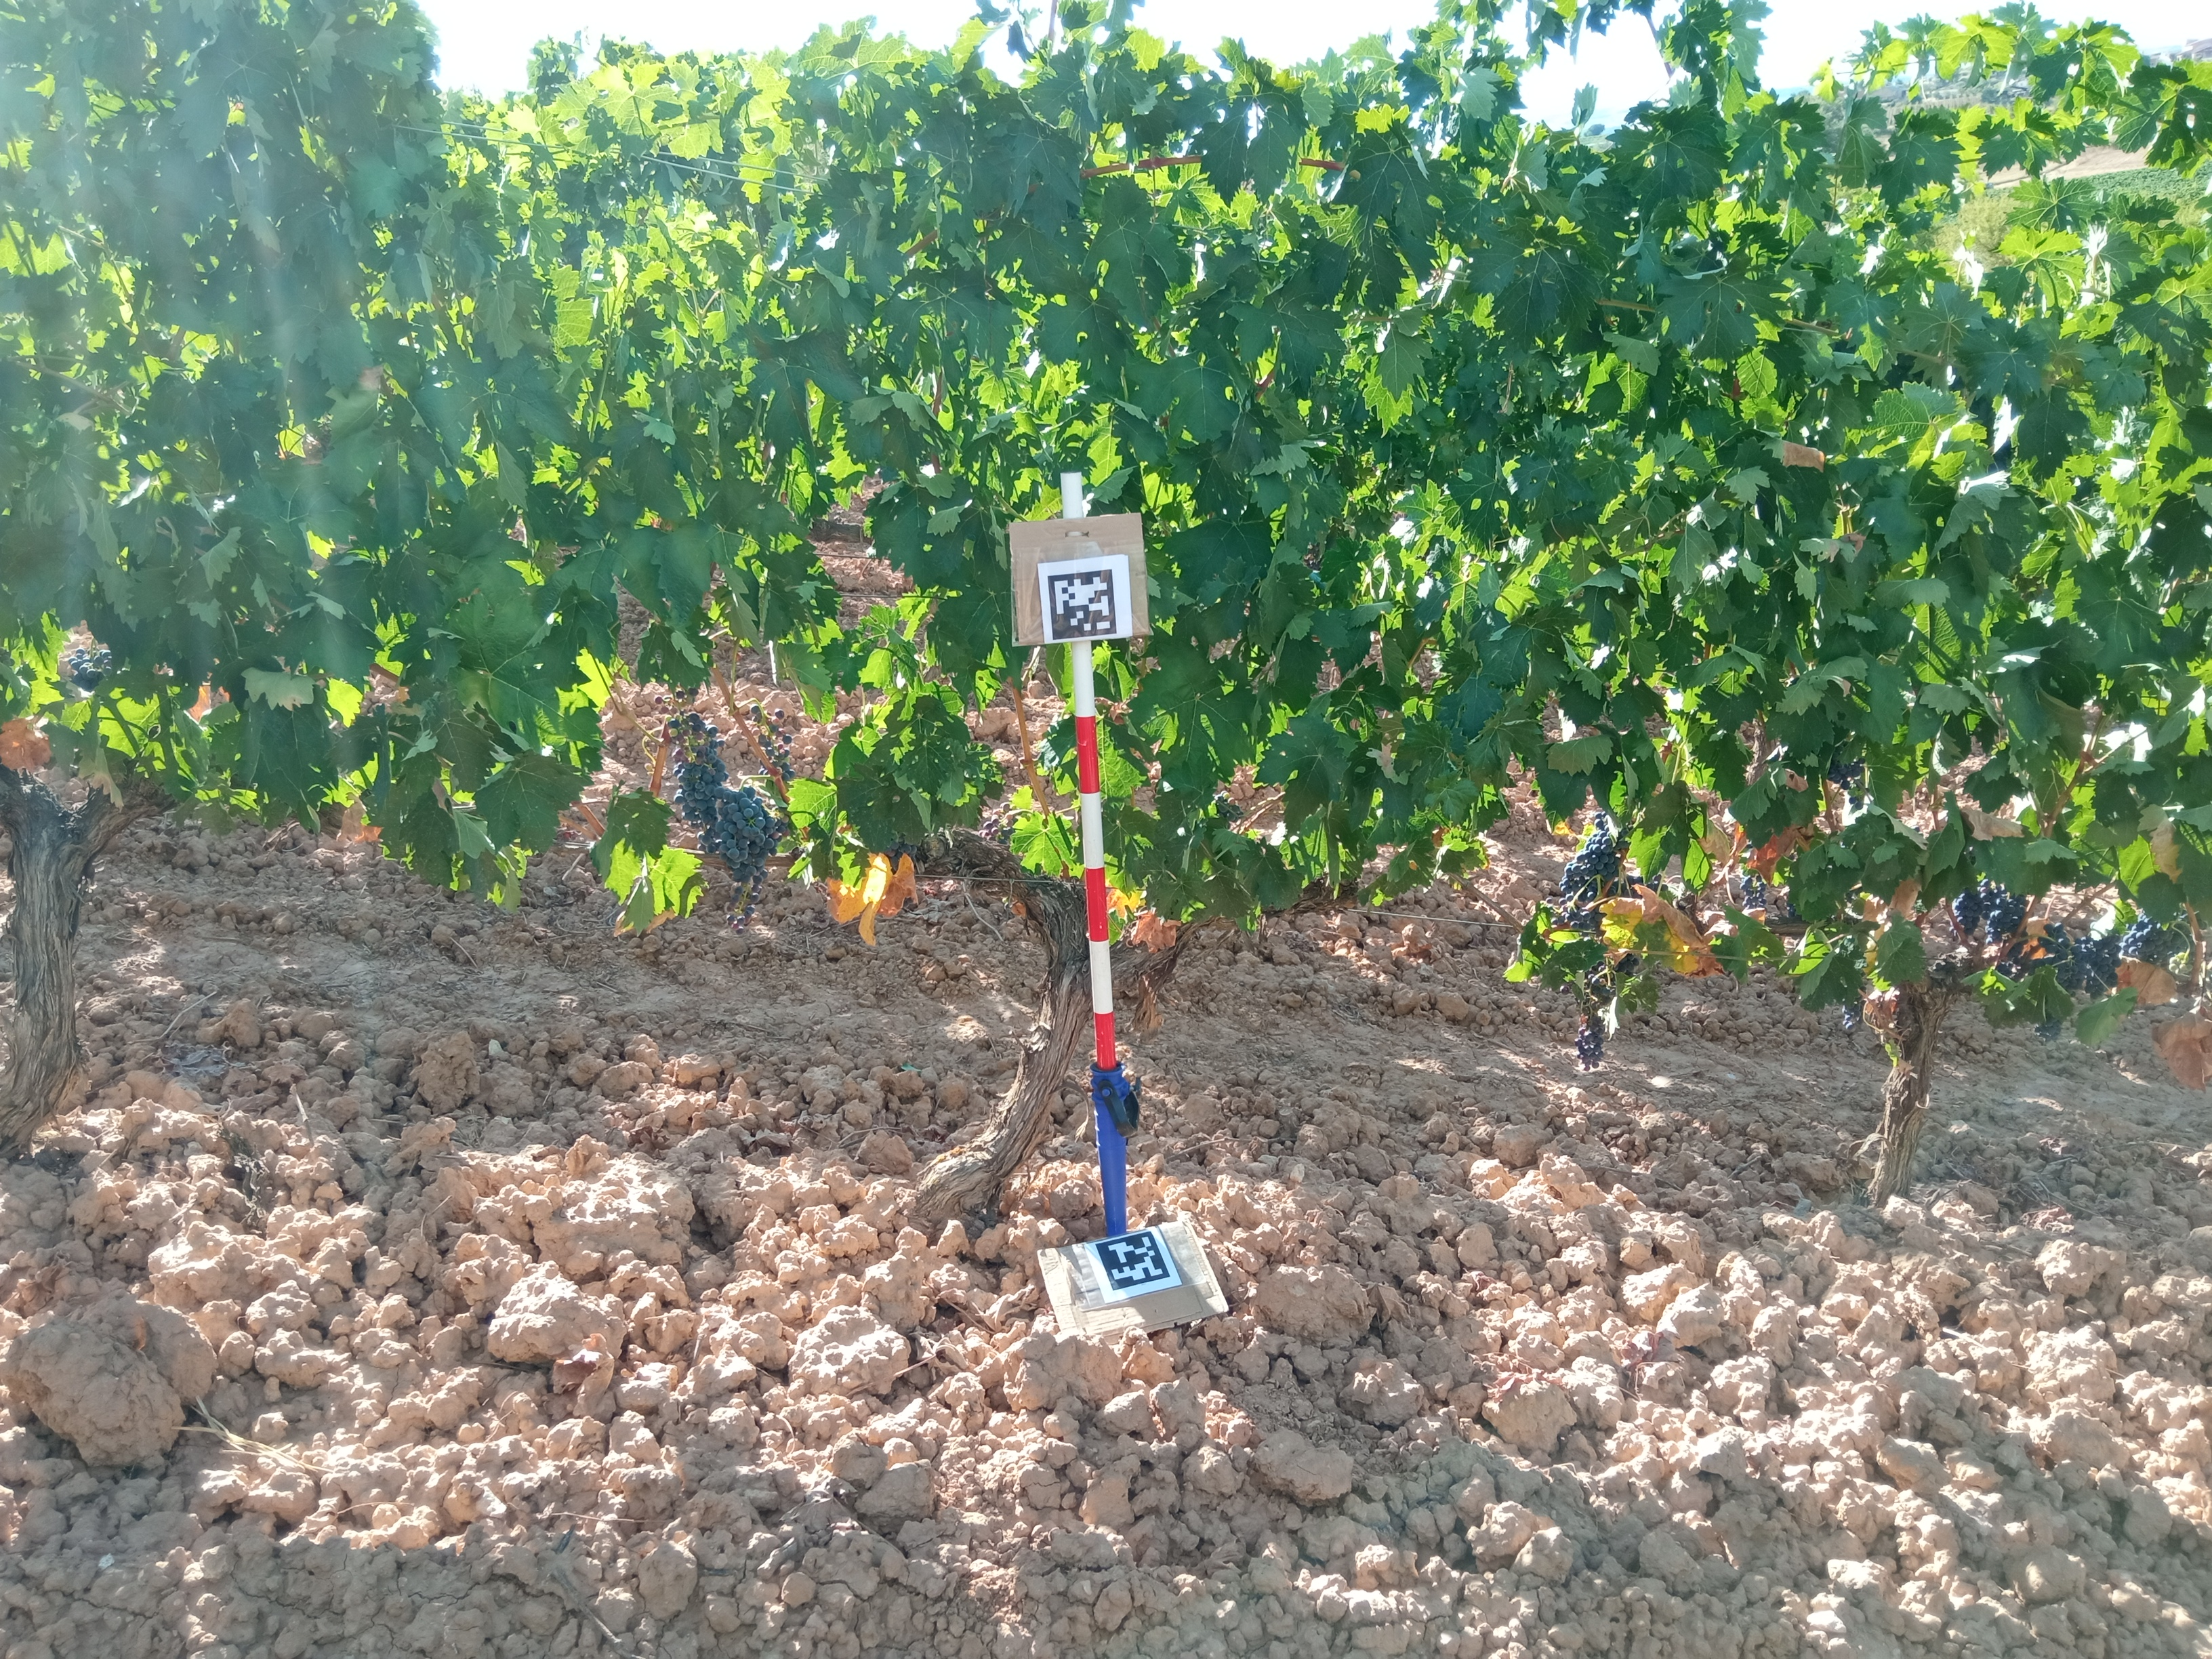grapes: (718, 788, 789, 929), (662, 694, 719, 838), (1561, 809, 1620, 932), (2029, 924, 2121, 992), (1956, 878, 2027, 939), (752, 701, 798, 779), (1827, 756, 1874, 812), (2120, 915, 2170, 964), (64, 647, 117, 690), (1578, 1012, 1609, 1072), (1622, 871, 1670, 901), (1737, 871, 1768, 911), (1588, 971, 1616, 1009), (2034, 1009, 2062, 1042), (1616, 951, 1641, 979), (1841, 1000, 1864, 1030)
